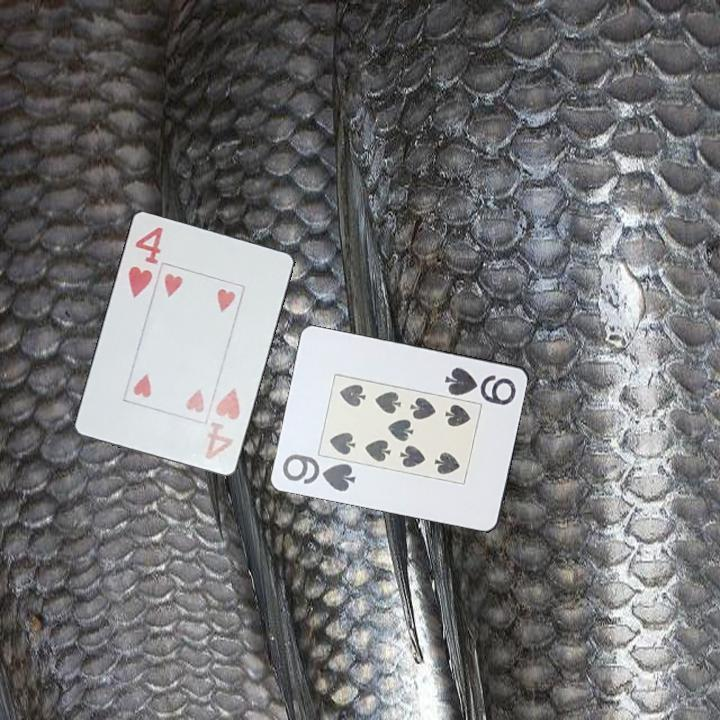4h: (124, 223, 166, 301), (201, 384, 243, 462)
9s: (279, 450, 359, 494), (441, 363, 519, 407)
